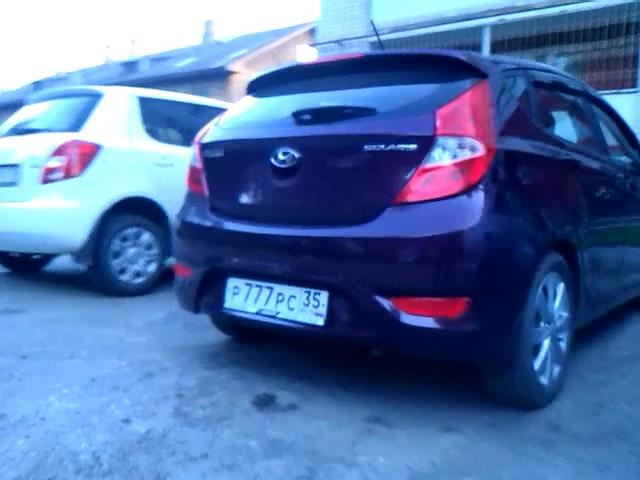car license plate: (222, 275, 331, 332)
